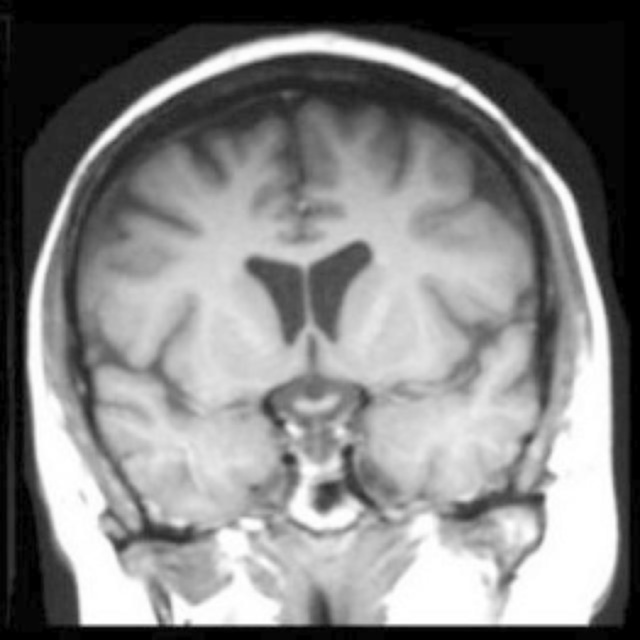glioma tumor: (125, 126, 522, 640)
